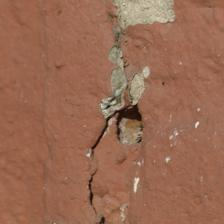Crack: (42, 18, 104, 206)
